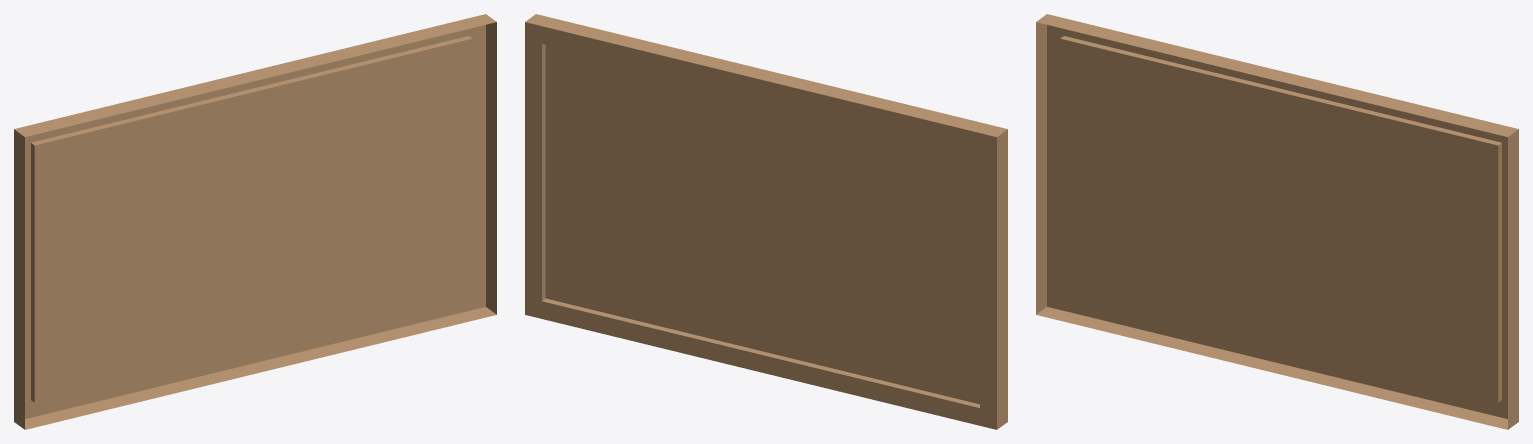
The model's file is Pizarra.fbx.
3 views of the same model, side by side, from view 1: azimuth 30°, elevation 25°; view 2: azimuth 150°, elevation 25°; view 3: azimuth 330°, elevation 25° (orthographic).
Visible parts, largest first — view 1: Pizarra; view 2: Pizarra; view 3: Pizarra.
Part boxes in pixels (x1=…): Pizarra: x1=14, y1=14, x2=496, y2=429; Pizarra: x1=525, y1=14, x2=1007, y2=429; Pizarra: x1=1036, y1=14, x2=1518, y2=429.
Size of the model in its own units: 10.33 by 6.12 by 0.4189.
